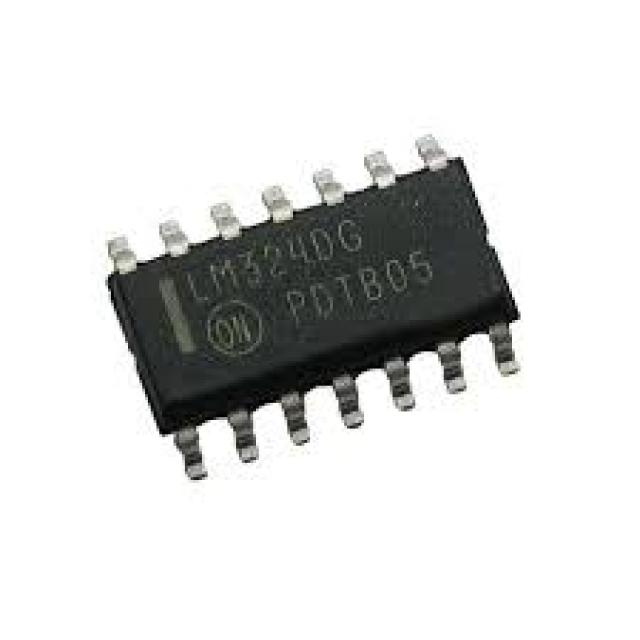IC: (101, 136, 525, 482)
